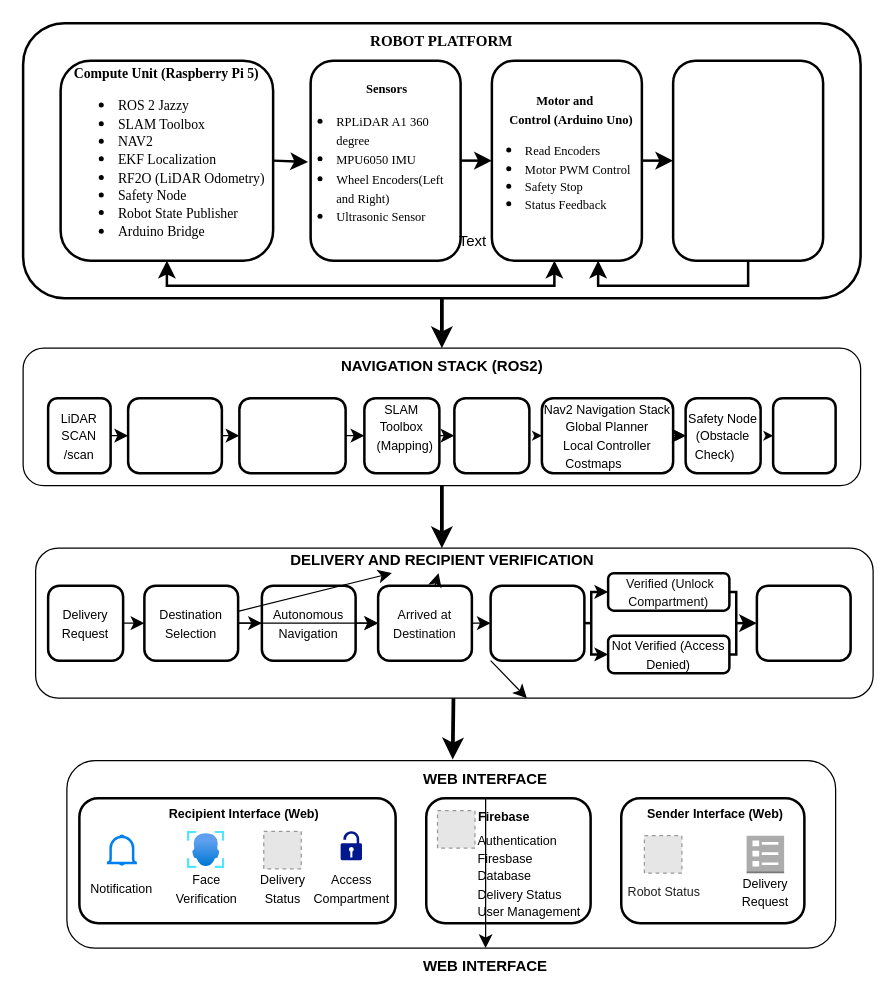
This 895x1006 diagram has some shape labels left out. Grey dashed boxes stand in for pictures. The shapes that lost their labels are listed below. From the top down, each one's centre as x and y in pixels, then its label:
At (x=747, y=160): "Drive System Elegoo Smart Car shield V1.1 4xTT DC Motors".
At (x=174, y=435): "Odometry (LiDAR + Encoders) /wheel/odom".
At (x=292, y=435): "EKF Localization /odometry/filtered".
At (x=491, y=435): "AMCL (Localization Against Map)".
At (x=803, y=435): "Velocity Command /cmd_vel".
At (x=537, y=622): "Face Verification (face-api.js)".
At (x=803, y=622): "Delivery Completed".
